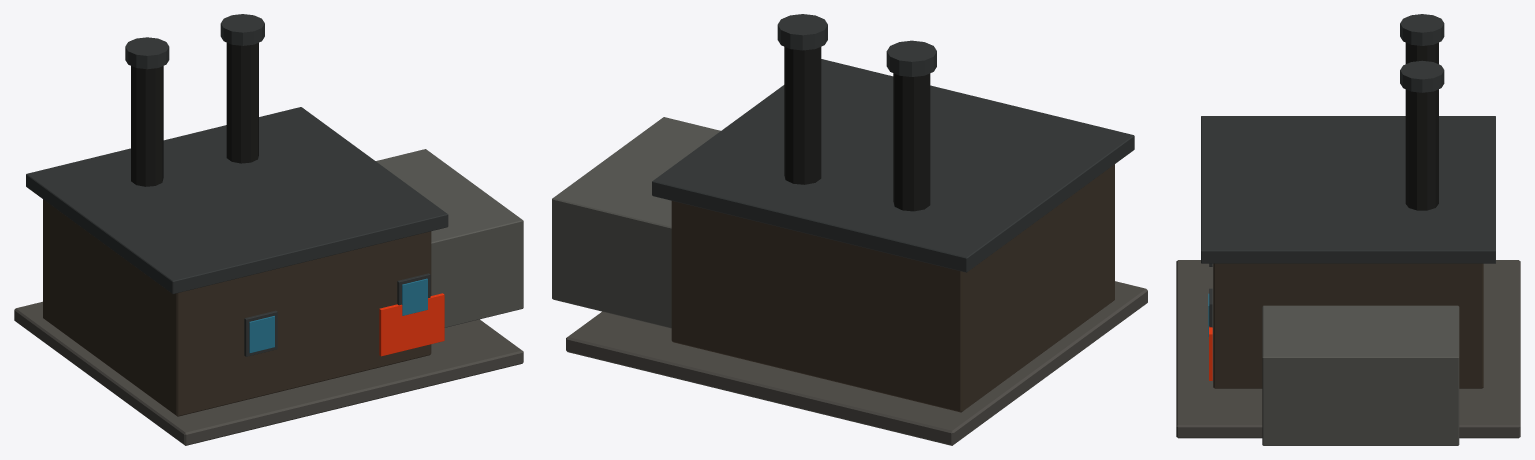
File: BrassSmelterHouse.glb
3 views of the same model, side by side, from view 1: azimuth 30°, elevation 25°; view 2: azimuth 150°, elevation 25°; view 3: azimuth 270°, elevation 25° (orthographic). The views are drawn at different scales.
Visible parts, largest first — view 1: BrassSmelterHouse; view 2: BrassSmelterHouse; view 3: BrassSmelterHouse.
Boxes of the visible parts, x1,y1,x2,y2 form: BrassSmelterHouse: (14,14,523,445); BrassSmelterHouse: (552,14,1147,445); BrassSmelterHouse: (1176,14,1520,445).
Size of the model in its own units: 36 by 26.1 by 28.
1 material, 1 textured.
